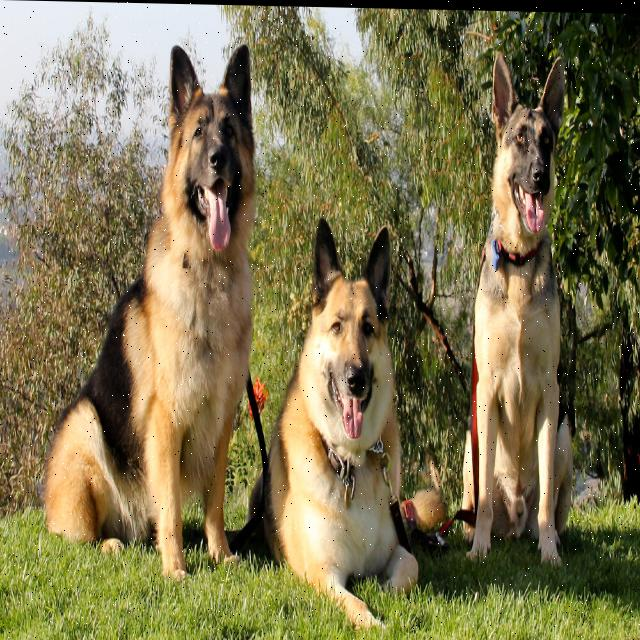GERMAN_SHEPHERD: (37, 31, 266, 589), (249, 211, 435, 637), (446, 36, 585, 581)
